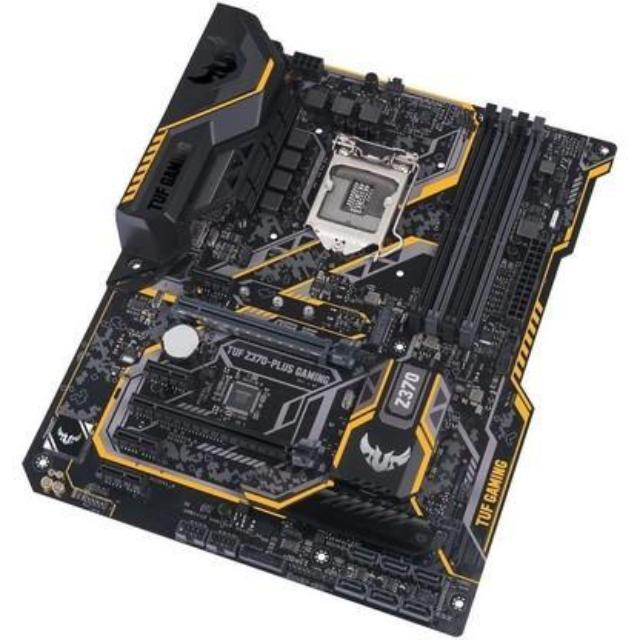Mainboard: (21, 8, 621, 640)
